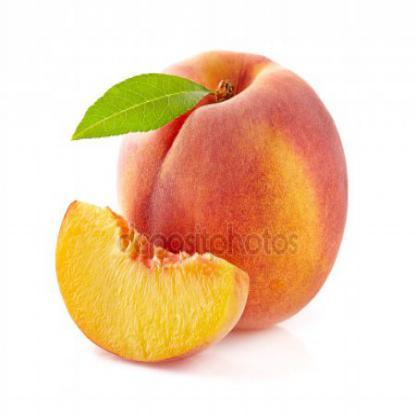Peach leaf: (57, 72, 219, 148)
